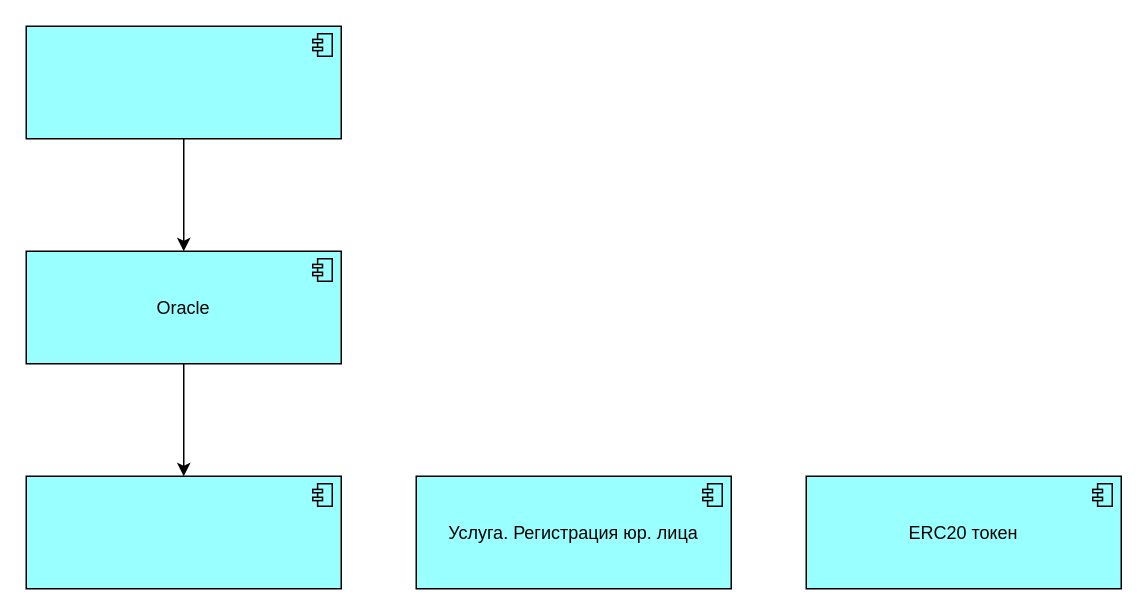
The diagram is 1148 pixels wide and 615 high, and some of its shapes have lost their labels. Here are the shapes that lost their labels. From the top down, the box of each, then its label:
(25, 25, 341, 139): KYC сервис
(25, 475, 341, 589): Цифровое ID
